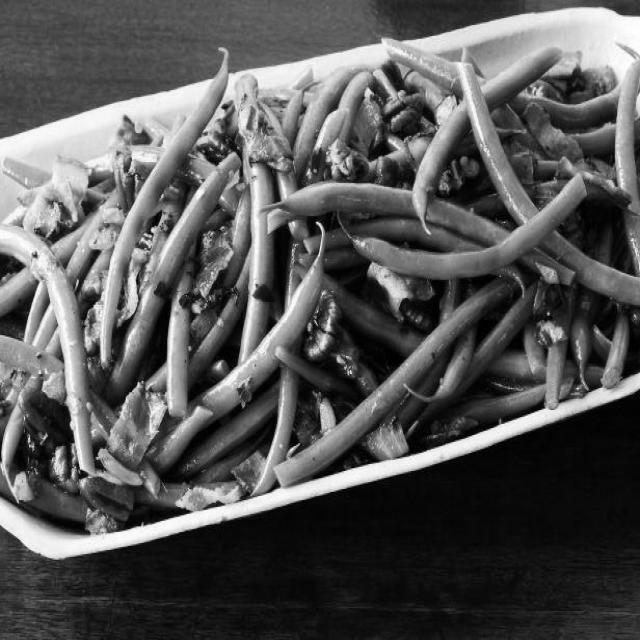Beans: (0, 13, 638, 547)
